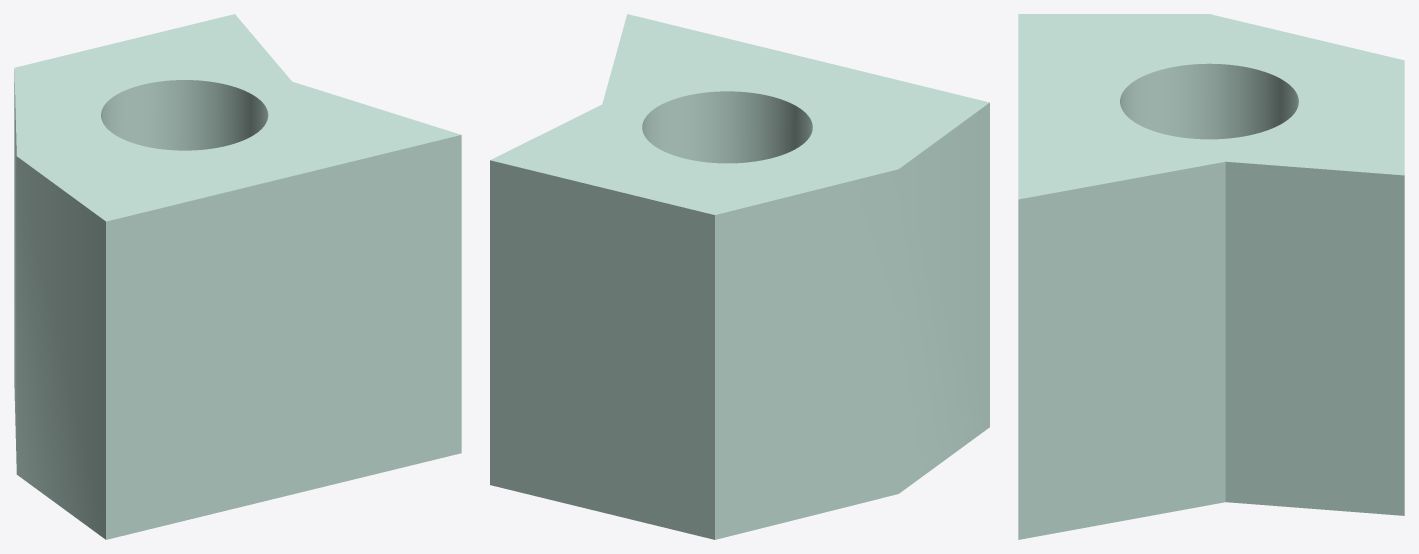
3 renders of one model, left to right at view 1: azimuth 30°, elevation 25°; view 2: azimuth 150°, elevation 25°; view 3: azimuth 270°, elevation 25°, orthographic. The views are drawn at different scales.
Visible parts, largest first — view 1: Renderer Node; view 2: Renderer Node; view 3: Renderer Node.
Boxes of the visible parts, x1,y1,x2,y2 form: Renderer Node: (14,14,461,539); Renderer Node: (490,14,989,539); Renderer Node: (1018,14,1404,539).
Size of the model in its own units: 0.6572 by 0.5625 by 0.5781.
